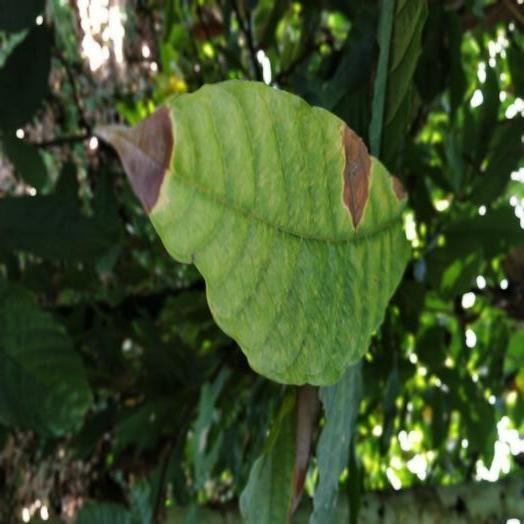Potassium: (99, 80, 408, 385)
